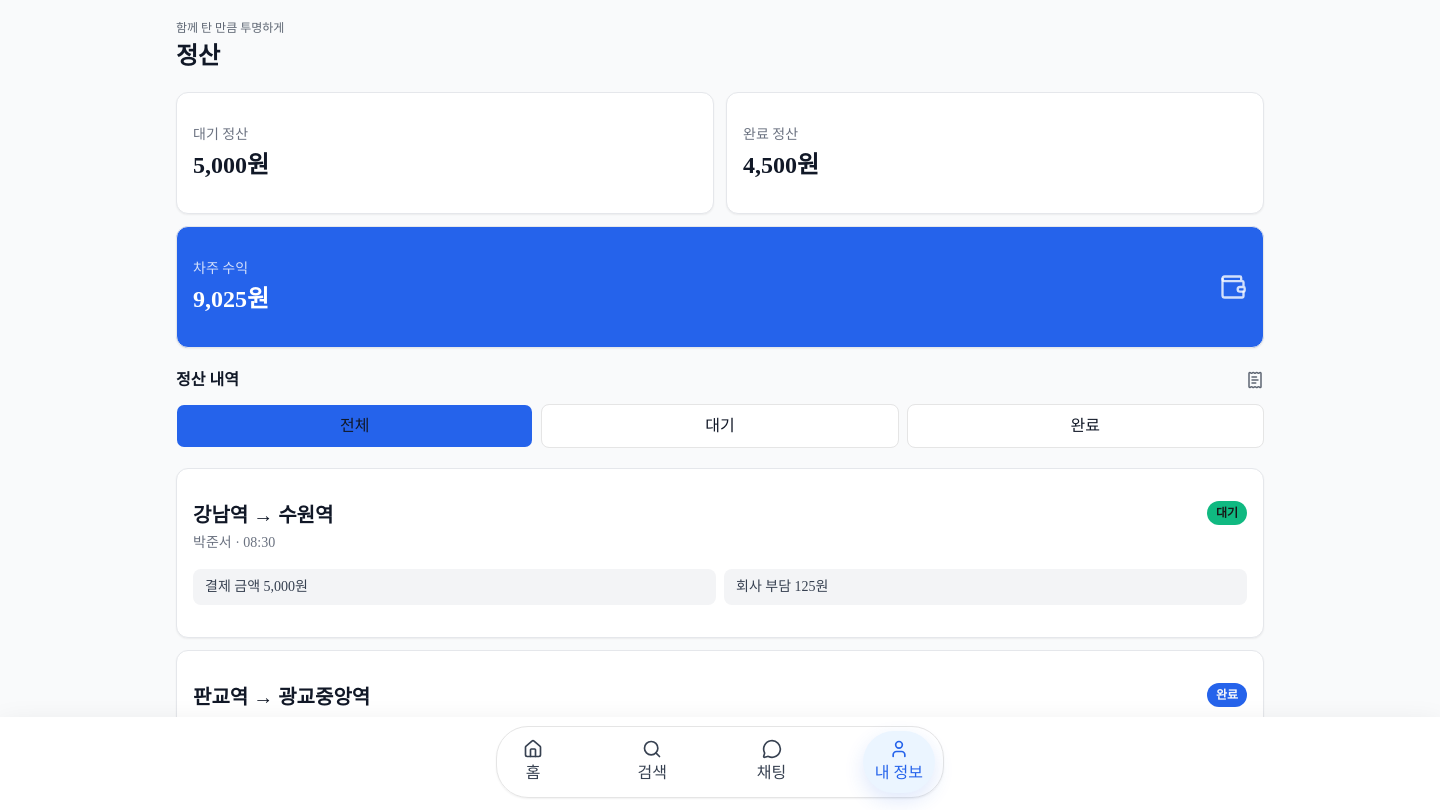
정산 화면 › 정산 상태 필터가 동작한다
Expected: the text "강남역 → 수원역" is shown, [193,501,333,529]
Click the button "대기" at (720, 426), box [541,404,899,448]
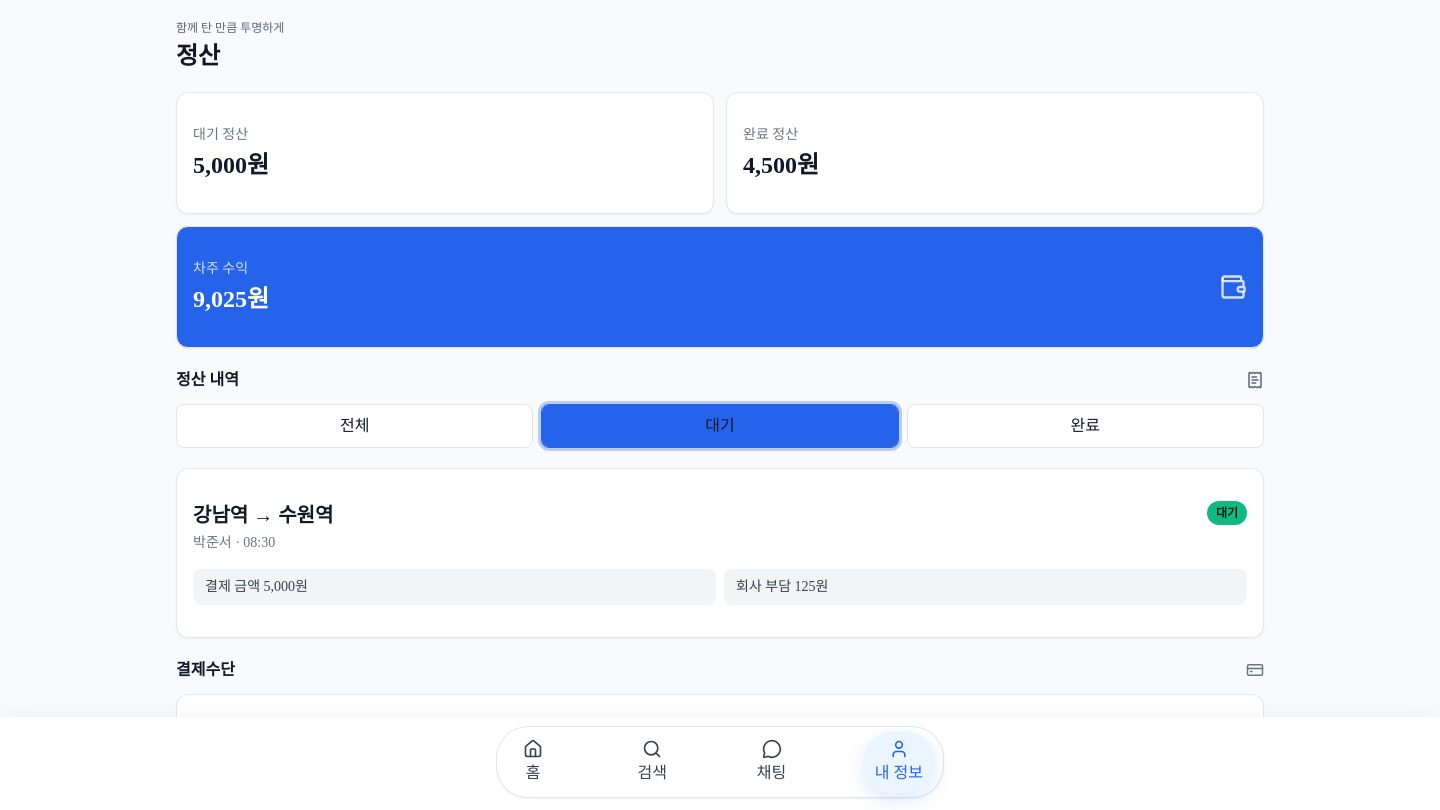
Expected: the text "강남역 → 수원역" is shown, [193,501,333,529]
Expected: the button "판교역 → 광교중앙역" is gone
Click the button "완료" at (1085, 426), box [907,404,1264,448]
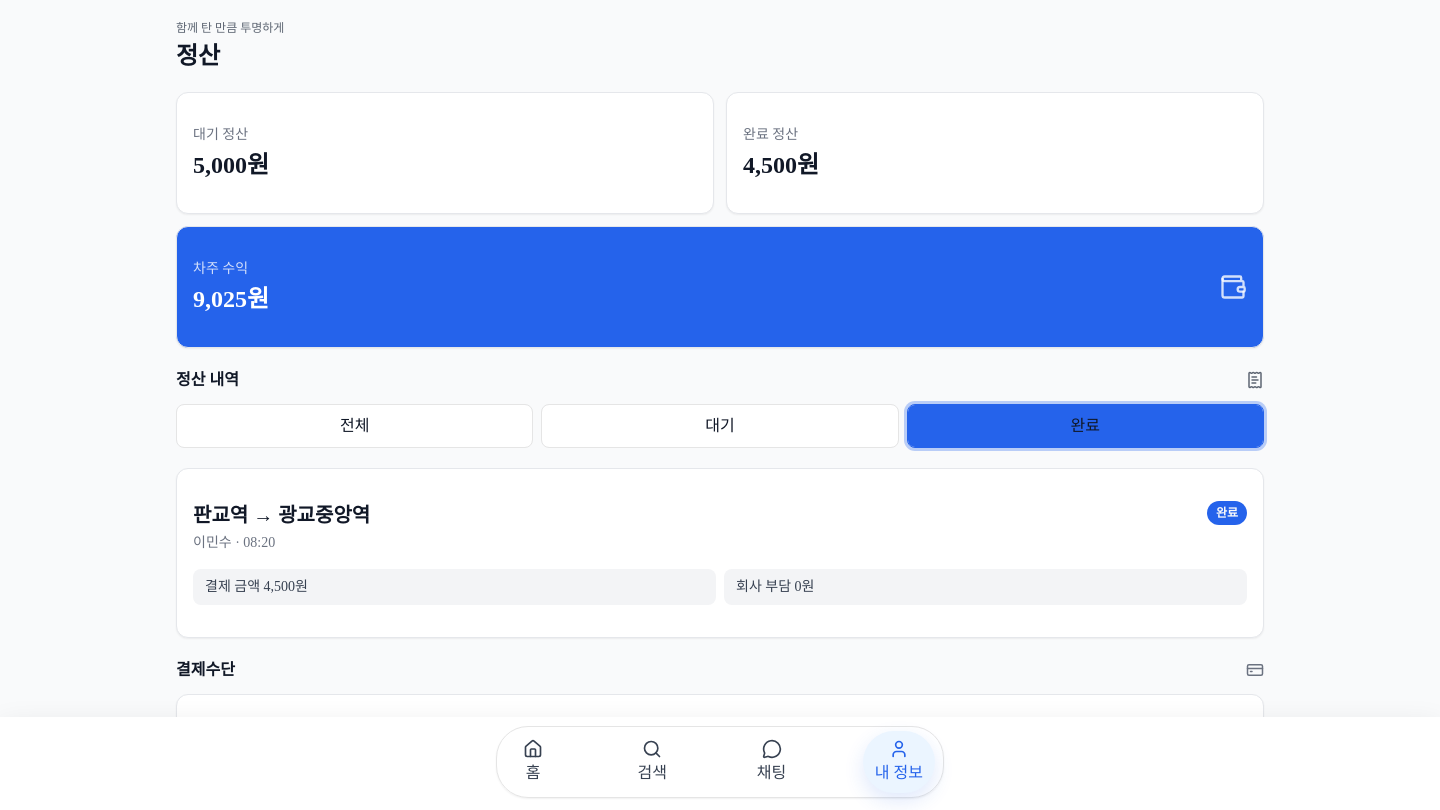
Expected: the button "강남역 → 수원역" is gone
Expected: the text "판교역 → 광교중앙역" is shown, [193,501,370,529]
